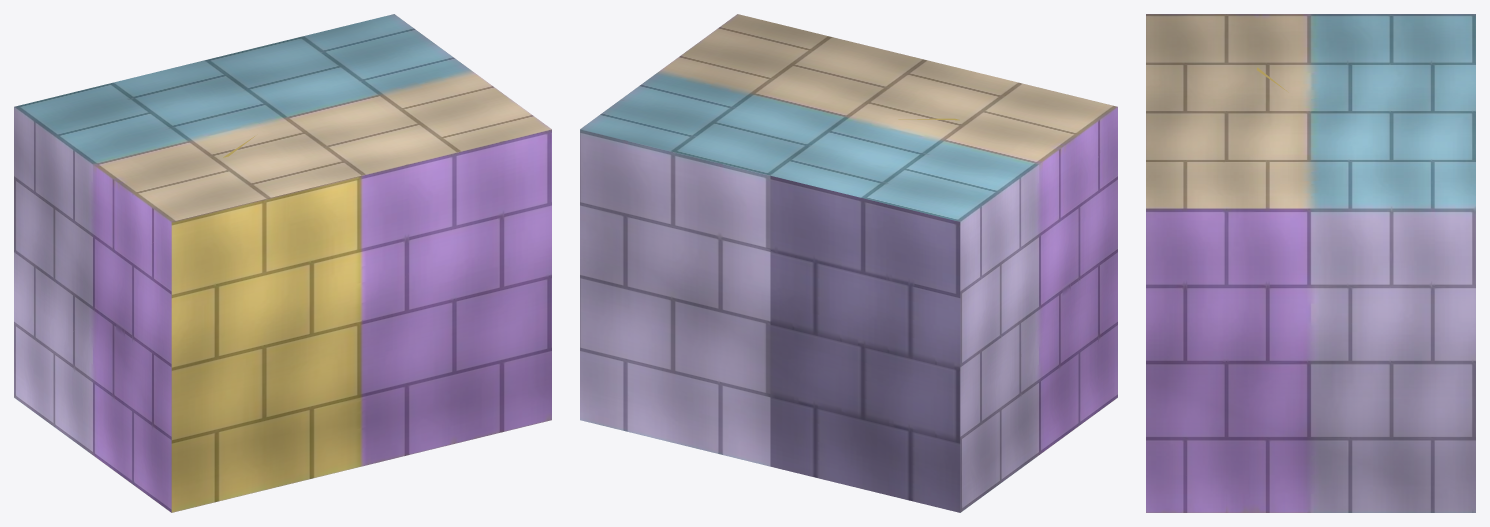
Rendered from book_pile.glb.
3 views of the same model, side by side, from view 1: azimuth 30°, elevation 25°; view 2: azimuth 150°, elevation 25°; view 3: azimuth 270°, elevation 25° (orthographic). The views are drawn at different scales.
Visible parts, largest first — view 1: col; view 2: col; view 3: col.
Boxes of the visible parts, x1,y1,x2,y2 form: col: (14, 14, 551, 512); col: (580, 14, 1117, 512); col: (1146, 14, 1475, 512).
Size of the model in its own units: 0.957 by 0.6997 by 0.6864.
1 material, 1 textured.
